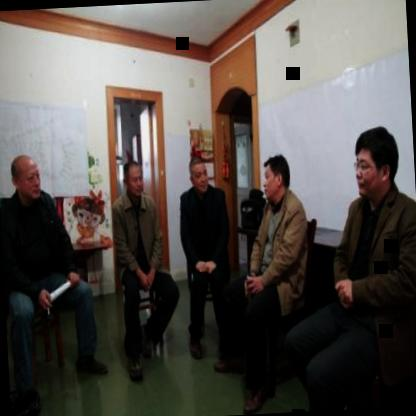head: (348, 122, 402, 207), (260, 148, 294, 203), (8, 151, 43, 203), (122, 156, 148, 201)
helmet: (186, 151, 209, 193)
